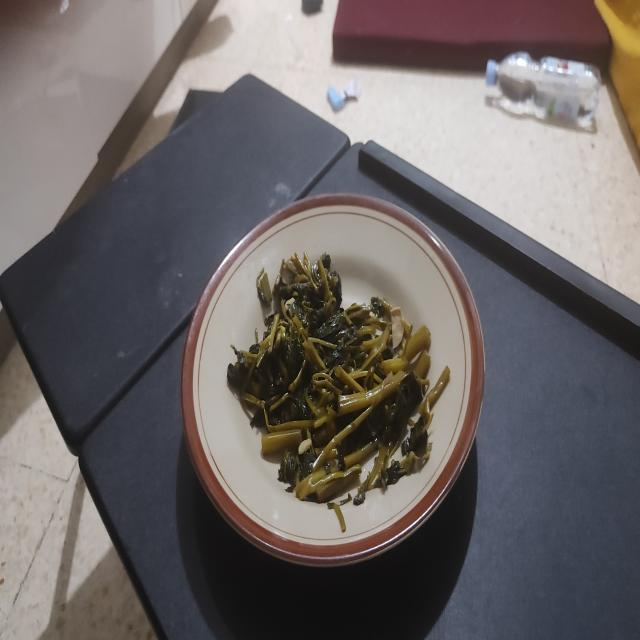tumis_kangkung: (228, 253, 430, 502)
